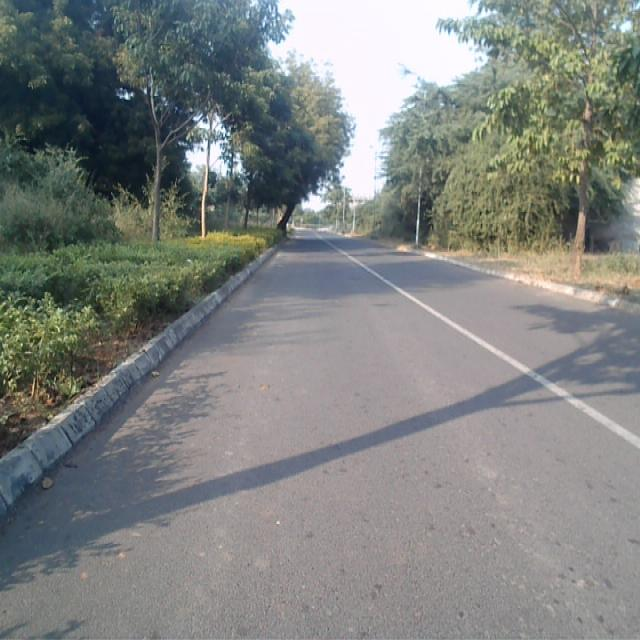lane: (0, 233, 640, 640)
